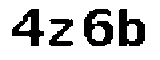4: (7, 7, 46, 47)
6: (81, 6, 115, 52)
b: (118, 3, 150, 52)
z: (47, 15, 77, 52)
